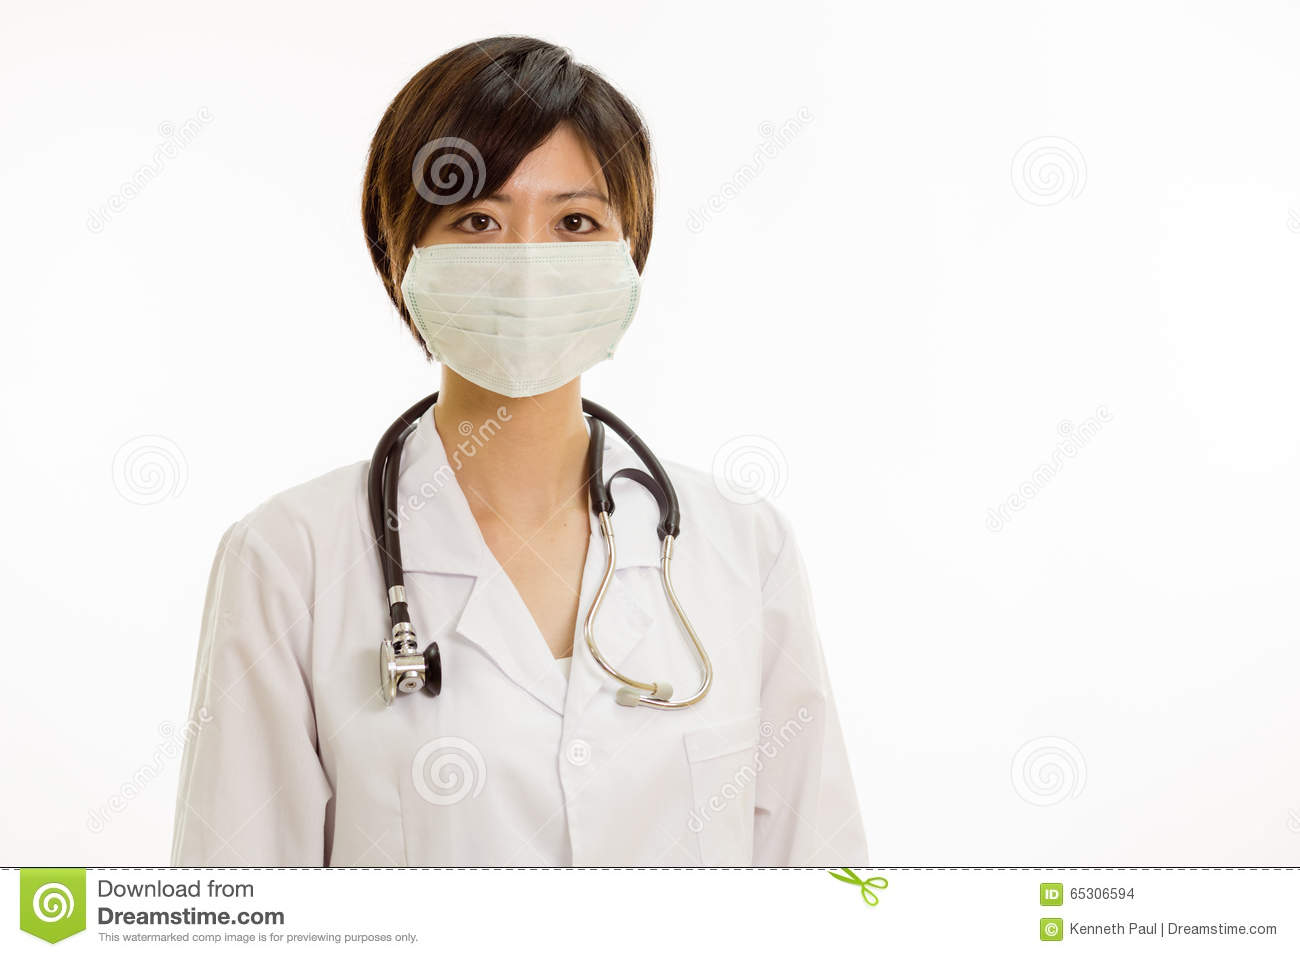mask: (401, 245, 644, 394)
